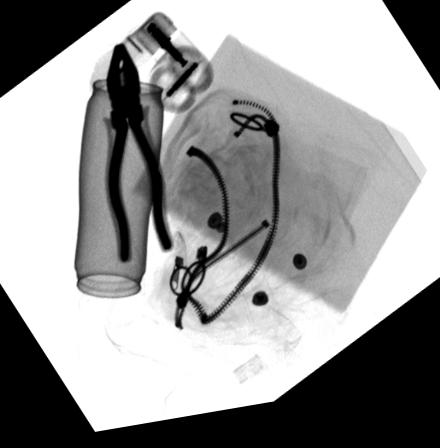Pliers: (100, 46, 174, 269)
